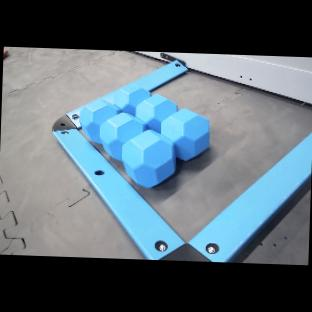Full: (71, 70, 312, 242), (99, 74, 312, 241)
Parking - B: (53, 89, 312, 263), (127, 55, 187, 90)
V5_BLUE: (122, 130, 176, 188), (161, 109, 209, 161), (100, 112, 146, 161), (79, 100, 121, 144), (136, 94, 178, 133), (114, 84, 152, 116)
pieces: (79, 84, 209, 188)
